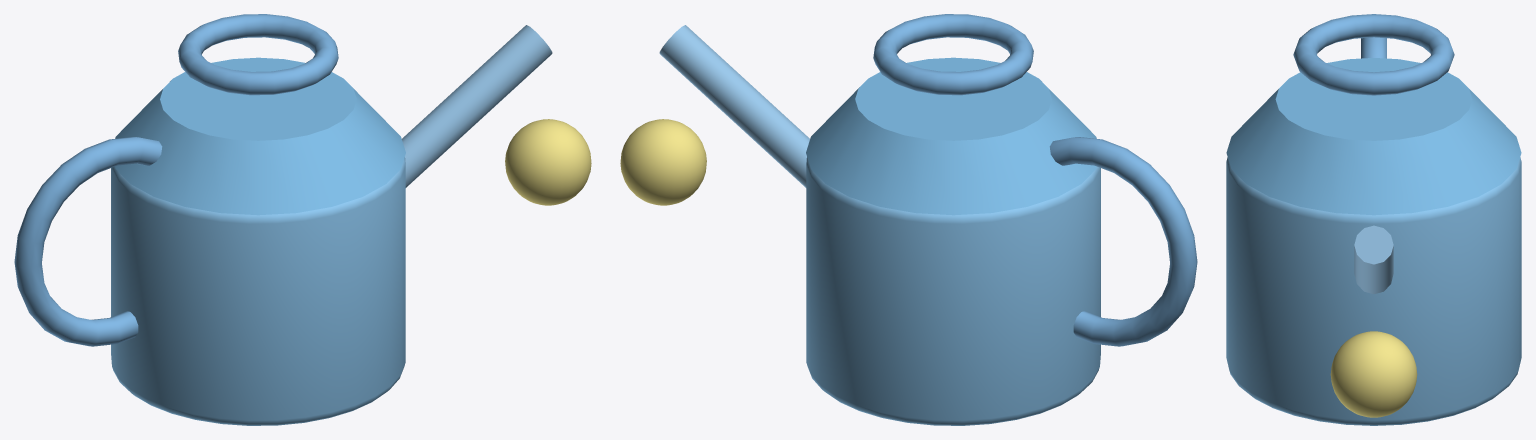
Rendered from wateringcan.fbx.
The picture shows the model from 3 angles, left to right: view 1: azimuth 30°, elevation 25°; view 2: azimuth 150°, elevation 25°; view 3: azimuth 270°, elevation 25°; orthographic projection.
Visible parts, largest first — view 1: Cylinder; view 2: Cylinder; view 3: Cylinder.
Part boxes in pixels (left/top/right/bottom): Cylinder: left=14, top=14, right=591, bottom=425; Cylinder: left=620, top=14, right=1197, bottom=425; Cylinder: left=1226, top=14, right=1521, bottom=425.
Size of the model in its own units: 3.34 by 1.81 by 1.5.
